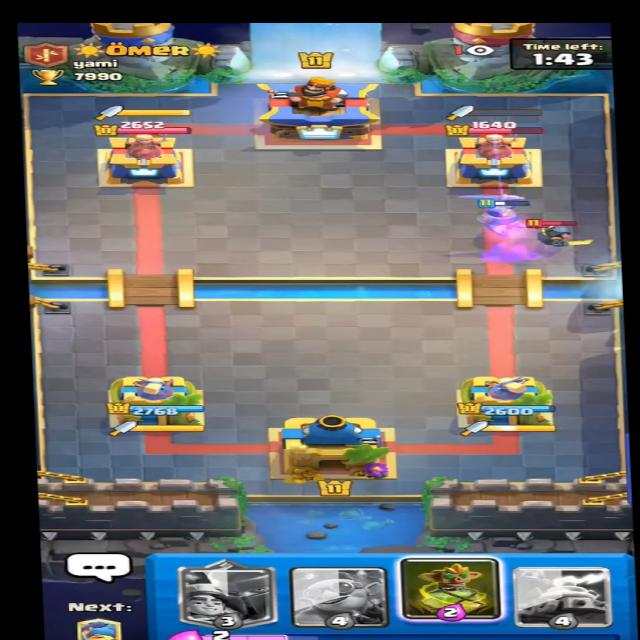mini-pekka: (519, 216, 589, 250)
